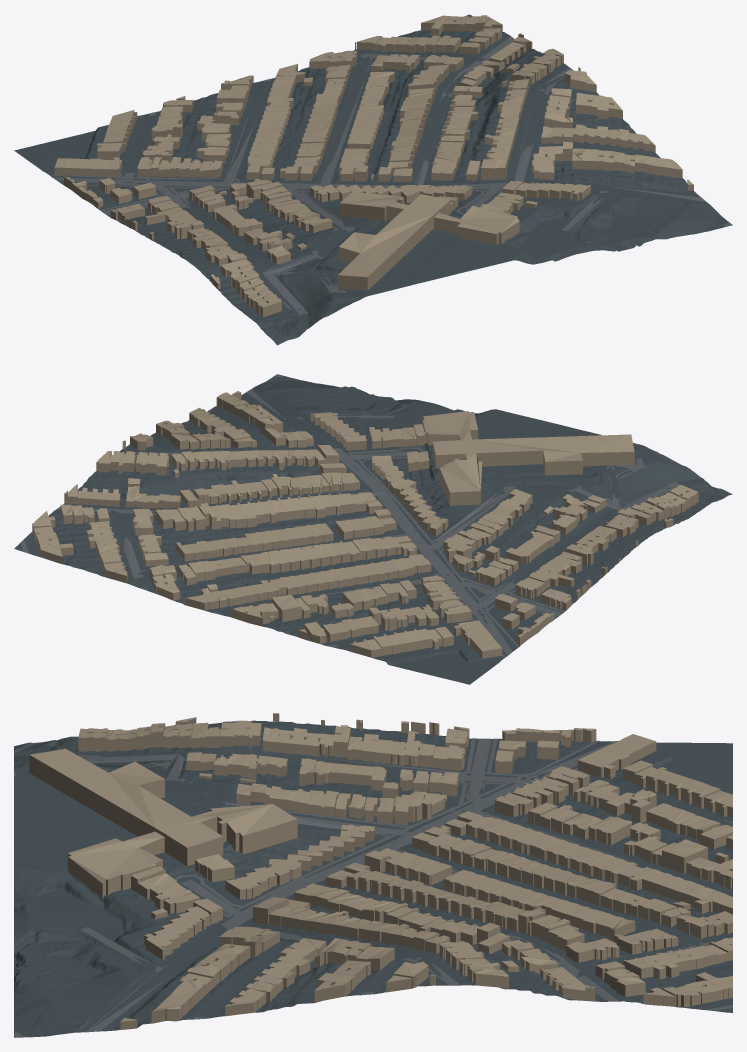
Rendered from epsg26910-1439-10876.lod0.glb.
3 renders of one model, top to bottom at view 1: azimuth 30°, elevation 25°; view 2: azimuth 150°, elevation 25°; view 3: azimuth 270°, elevation 25°, orthographic. The views are drawn at different scales.
Visible parts, largest first — view 1: epsg26910-1439-10876-lod0; view 2: epsg26910-1439-10876-lod0; view 3: epsg26910-1439-10876-lod0.
Boxes of the visible parts, x1,y1,x2,y2 form: epsg26910-1439-10876-lod0: [14, 14, 732, 345]; epsg26910-1439-10876-lod0: [14, 374, 732, 684]; epsg26910-1439-10876-lod0: [14, 713, 732, 1037].
Size of the model in its own units: 384 by 45.19 by 384.
